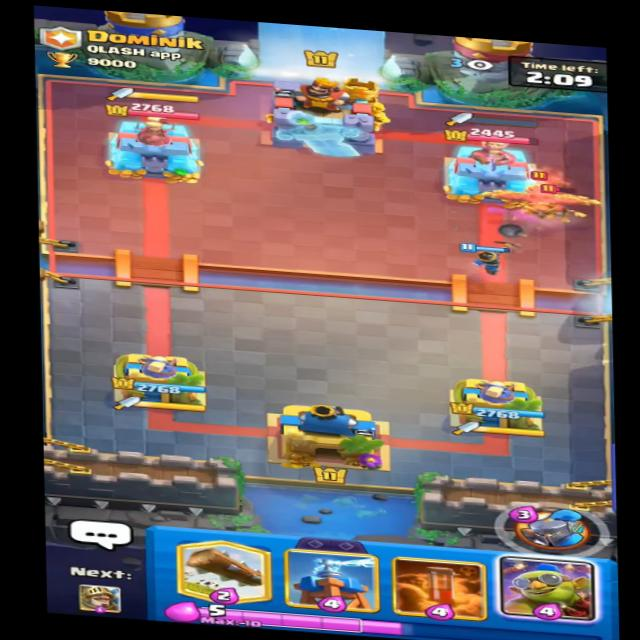bomber: (537, 196, 582, 225)
phoenix: (485, 170, 602, 222)
